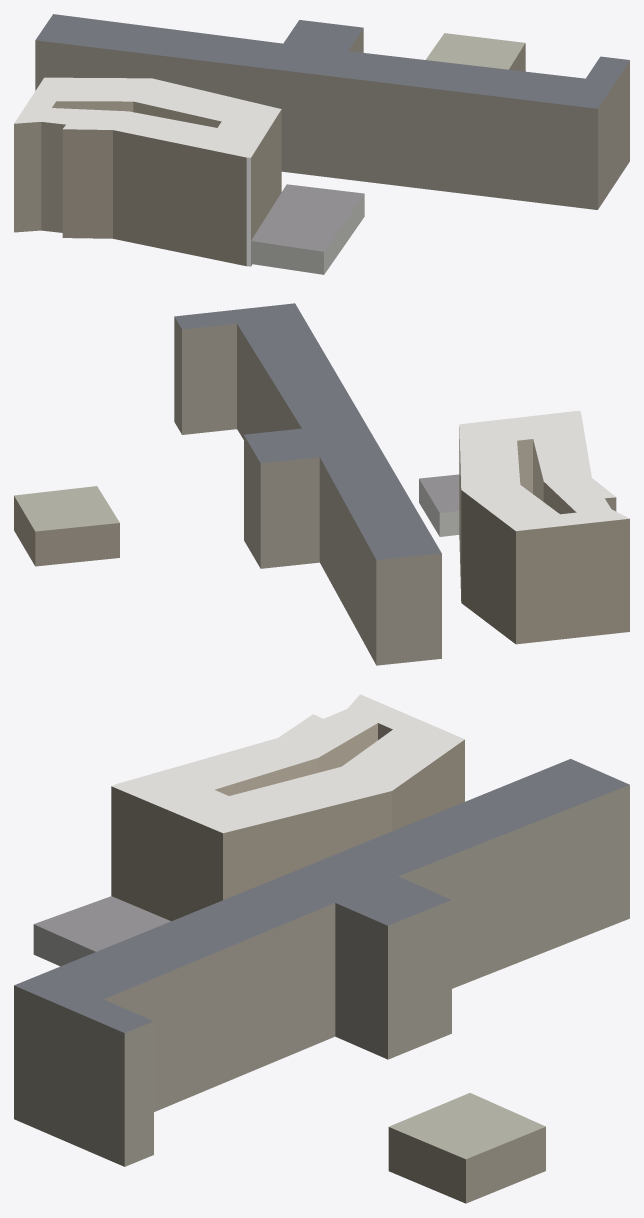
3 renders of one model, top to bottom at view 1: azimuth 30°, elevation 25°; view 2: azimuth 150°, elevation 25°; view 3: azimuth 270°, elevation 25°, orthographic. The views are drawn at different scales.
Visible parts, largest first — view 1: tuile; view 2: tuile; view 3: tuile.
Boxes of the visible parts, bbox=[...] form: tuile: bbox=[14, 14, 629, 274]; tuile: bbox=[14, 303, 629, 665]; tuile: bbox=[14, 694, 629, 1203].
Size of the model in its own units: 185 by 37.43 by 135.
